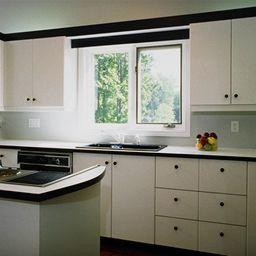Lavaplatos: (73, 133, 173, 161)
